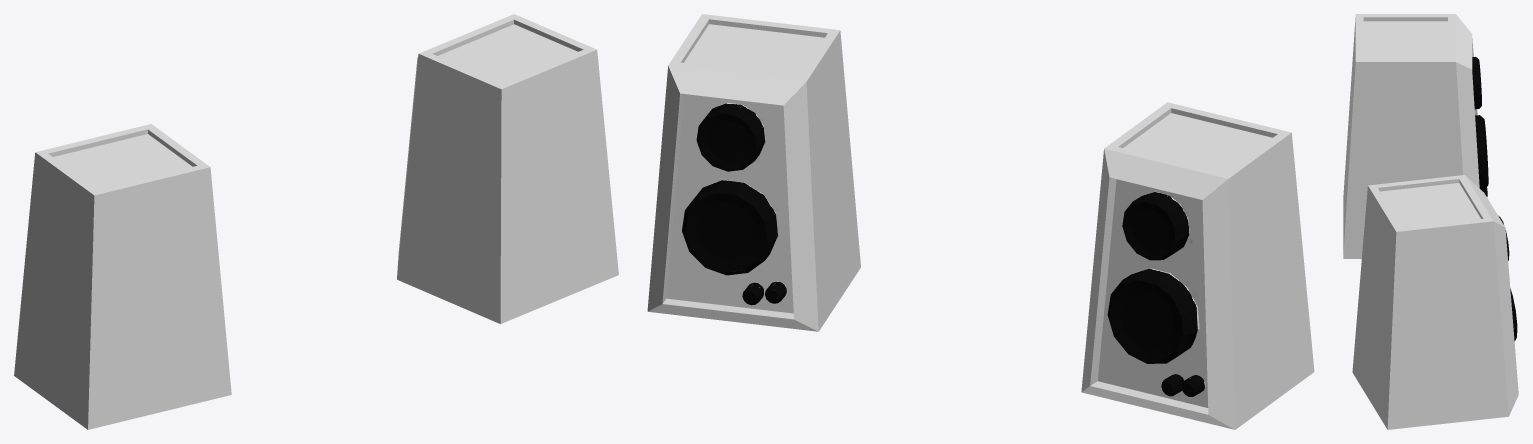
The model's file is Casse.fbx.
3 renders of one model, left to right at view 1: azimuth 30°, elevation 25°; view 2: azimuth 150°, elevation 25°; view 3: azimuth 270°, elevation 25°, orthographic. The views are drawn at different scales.
Parts seen in each view (by area): view 1: Casse; view 2: Casse; view 3: Casse.
Boxes of the visible parts, bbox=[...] form: Casse: bbox=[14, 14, 618, 429]; Casse: bbox=[647, 14, 1314, 429]; Casse: bbox=[1343, 14, 1518, 429].
Size of the model in its own units: 200 by 77.61 by 64.55.
